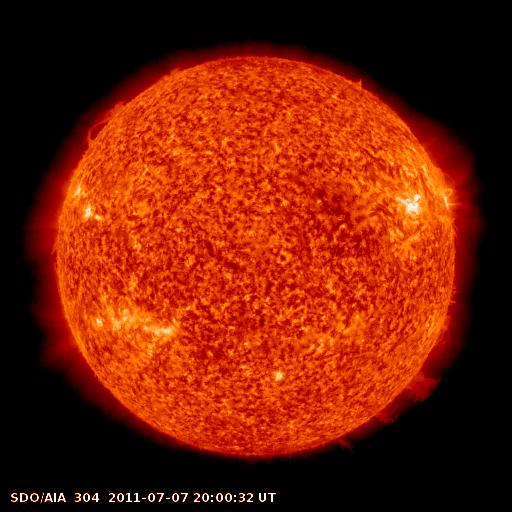prominence: (83, 98, 126, 152), (400, 364, 445, 407)
